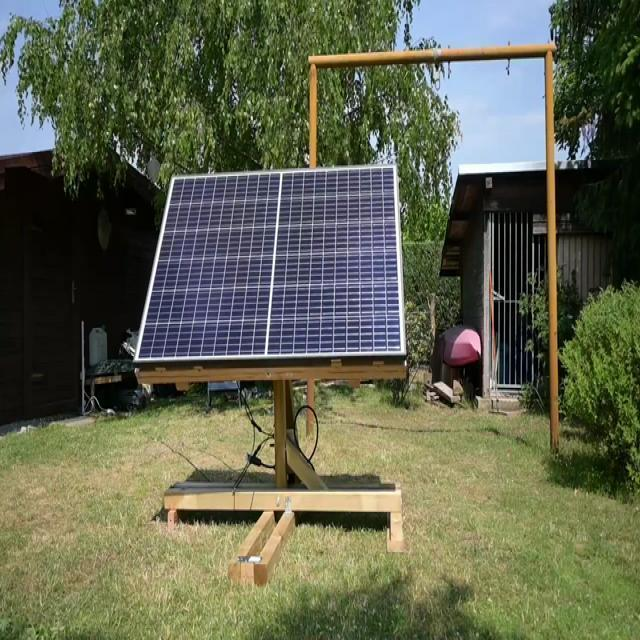Normal Solar Panel: (135, 165, 406, 365)
